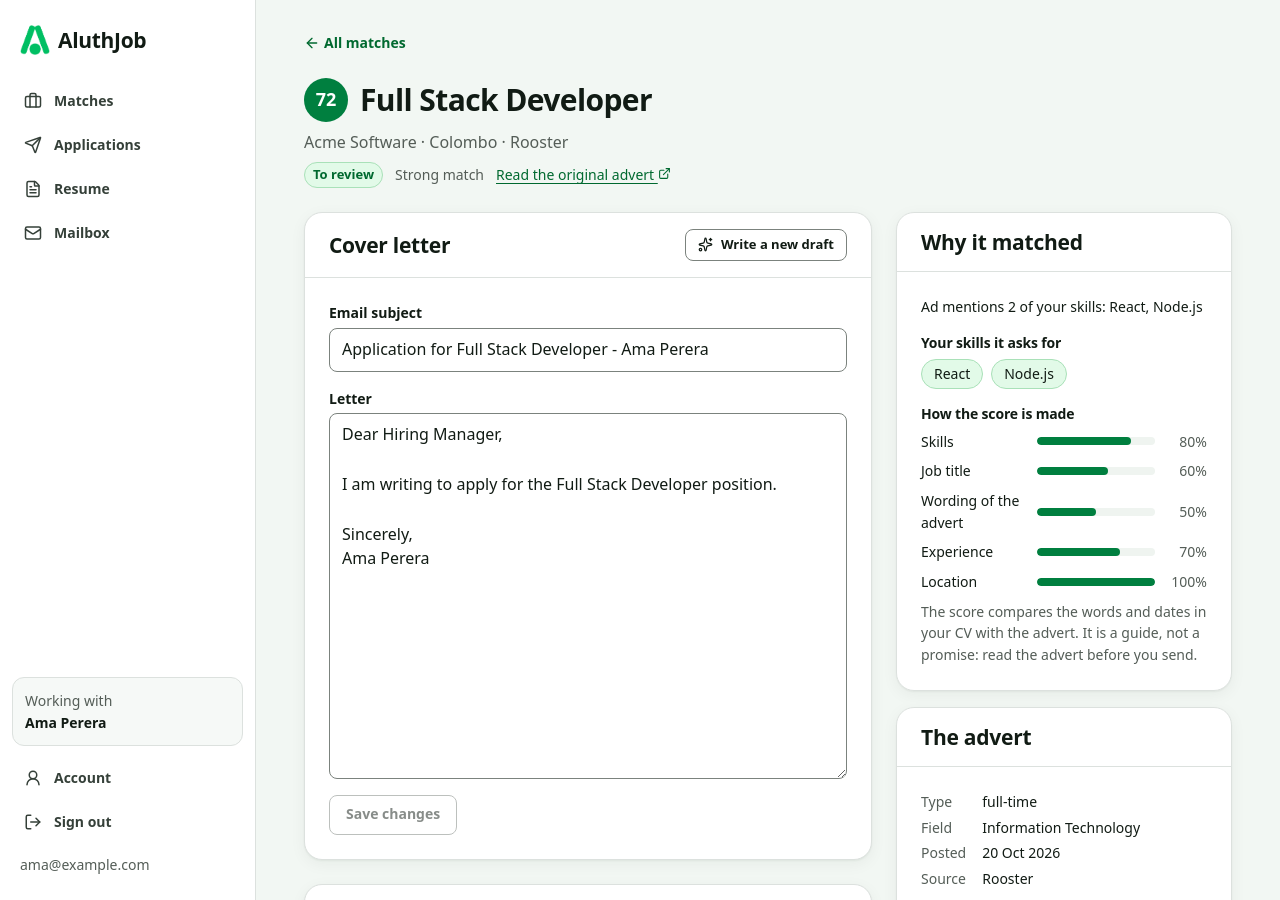
Test case: match page: the cover letter › writes a new draft straight away when nothing has been edited
The image size is (1280, 900).
Click the button "Write a new draft" at (766, 245), box [685,229,847,261]
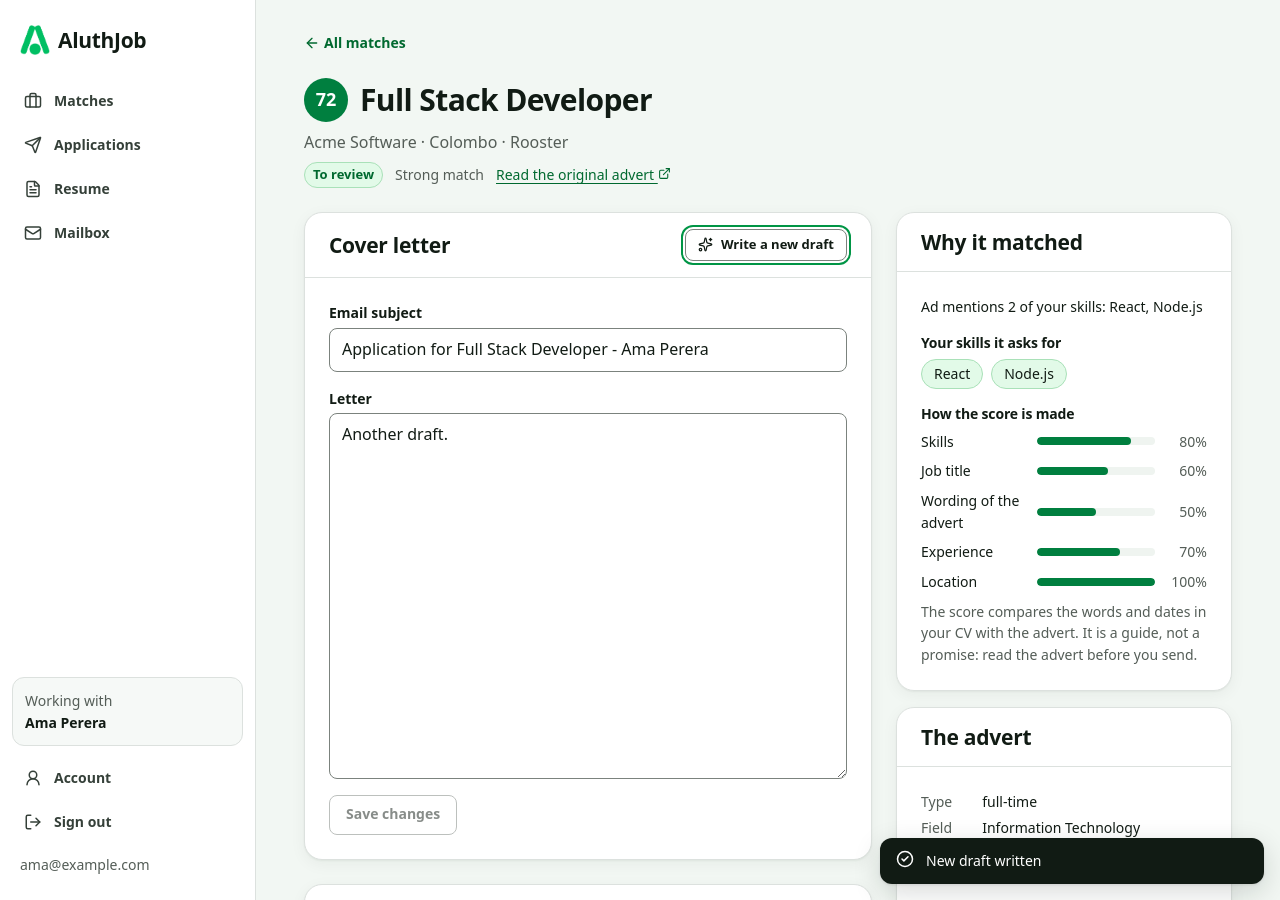
Expected: the text box labelled "Letter" holds "Another draft.", [329,413,847,779]
